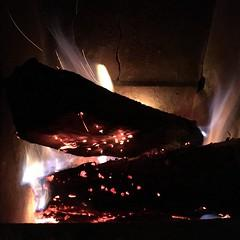fire: (20, 139, 70, 212), (56, 21, 104, 87), (197, 75, 240, 140)
